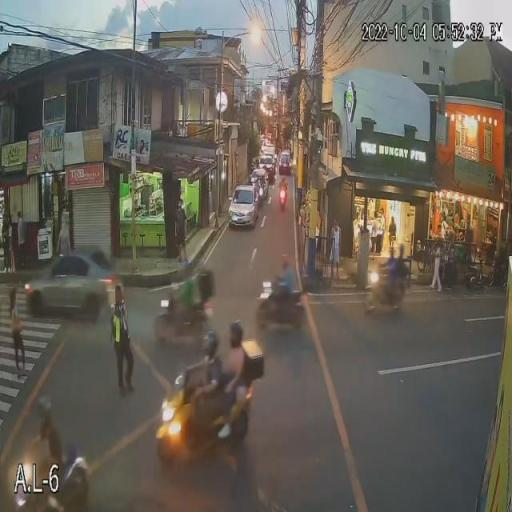helmet: (32, 395, 58, 427), (224, 318, 248, 351), (196, 329, 223, 354), (175, 260, 196, 282), (277, 253, 297, 274), (394, 246, 410, 257), (388, 242, 397, 259)
motorcycle: (153, 376, 253, 462), (11, 451, 91, 512), (250, 276, 308, 332), (154, 292, 212, 339), (360, 269, 409, 317), (274, 188, 290, 212)
rider: (25, 389, 62, 506), (191, 336, 223, 432), (221, 321, 246, 438), (272, 257, 298, 321), (173, 266, 197, 332), (392, 246, 412, 310), (382, 242, 397, 305), (275, 174, 289, 196)
